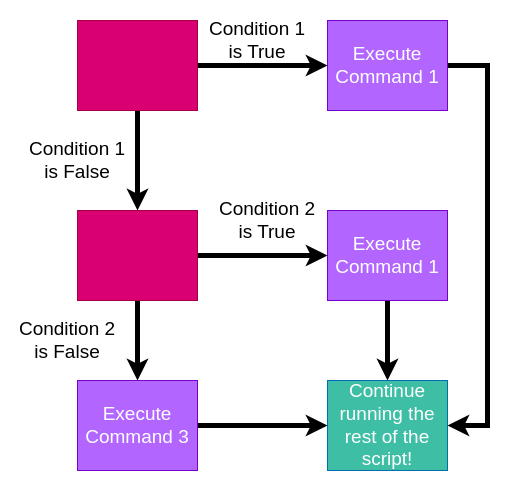
Image size: 515x488. Some labels were removed from this diagram. Each missing label, with the centre of its shape:
Check if Condition 1 is True: (x=137, y=65)
Check if Condition 2 is True: (x=137, y=255)
